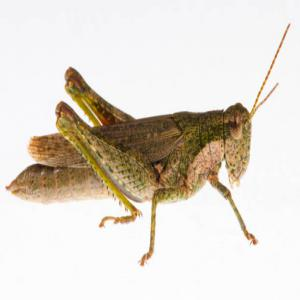locust: (1, 54, 284, 221)
